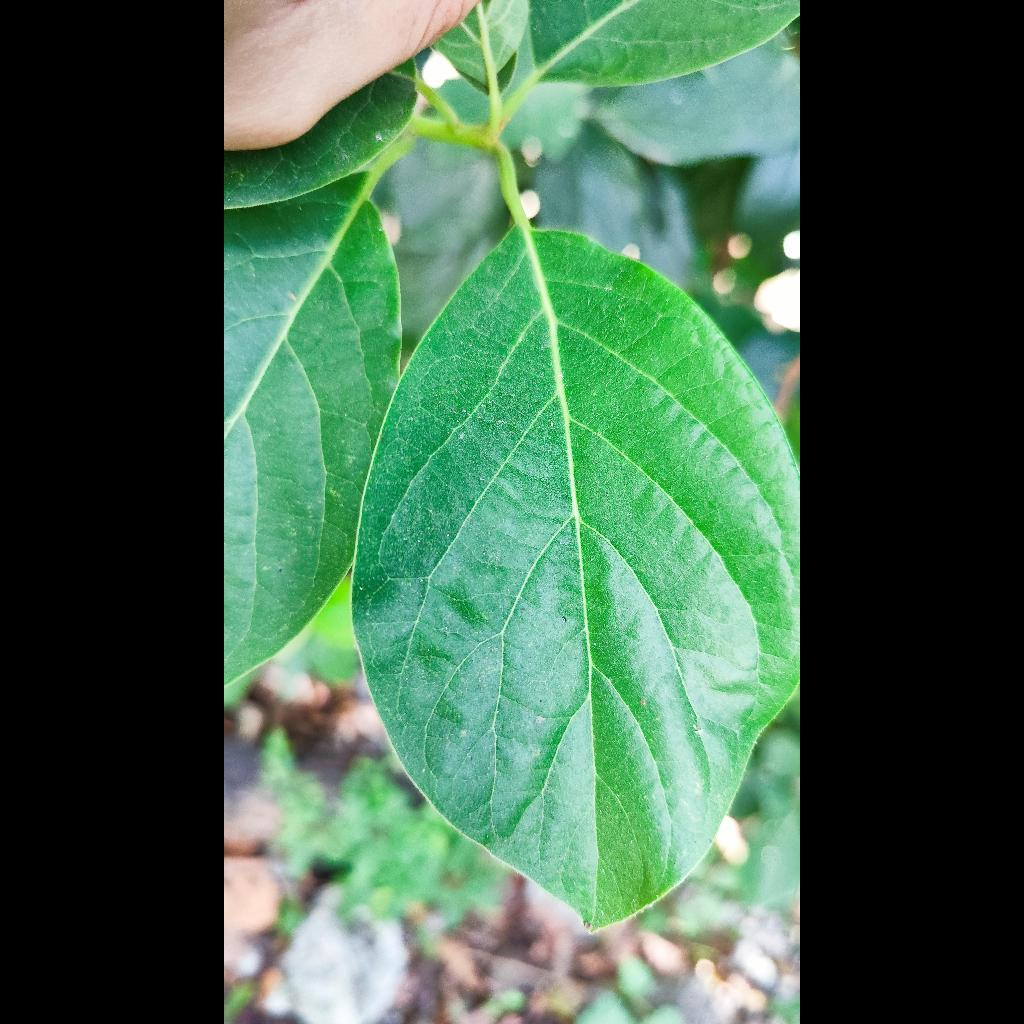hoja_sana: (354, 229, 799, 928), (224, 173, 400, 683)
